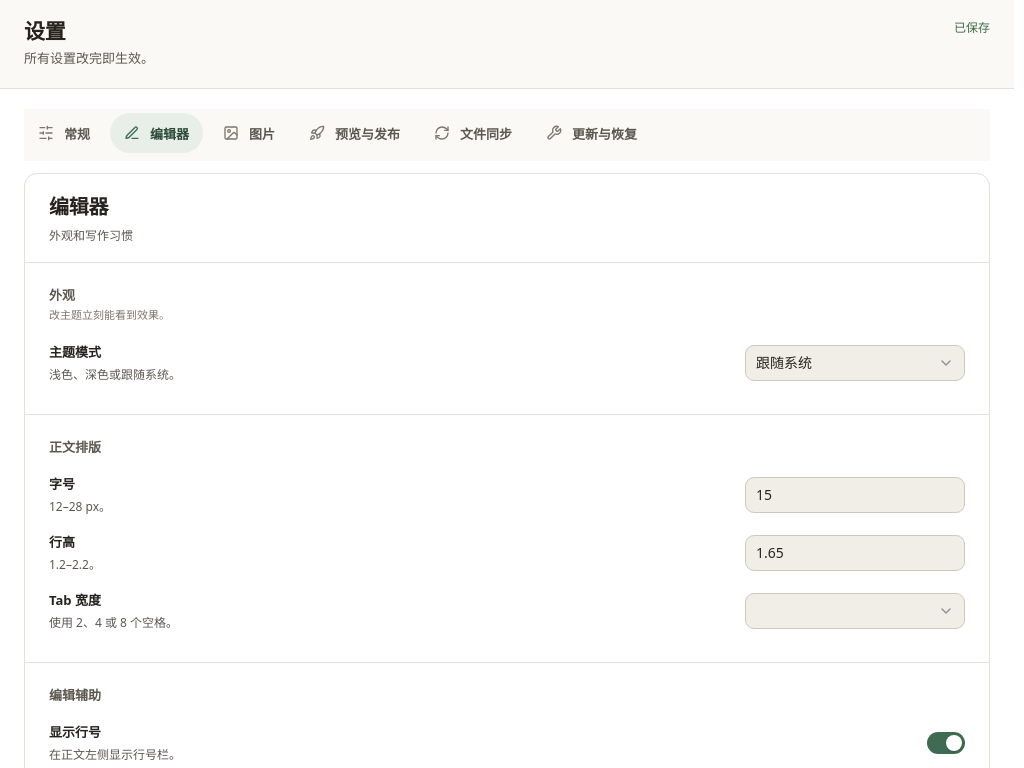
settings interaction recovery › rolls back an invalid value once the auto-save rejects it
Step 1. Replace the text in the number field labelled "字号" with "18" → (855, 494), box [745, 476, 965, 512]
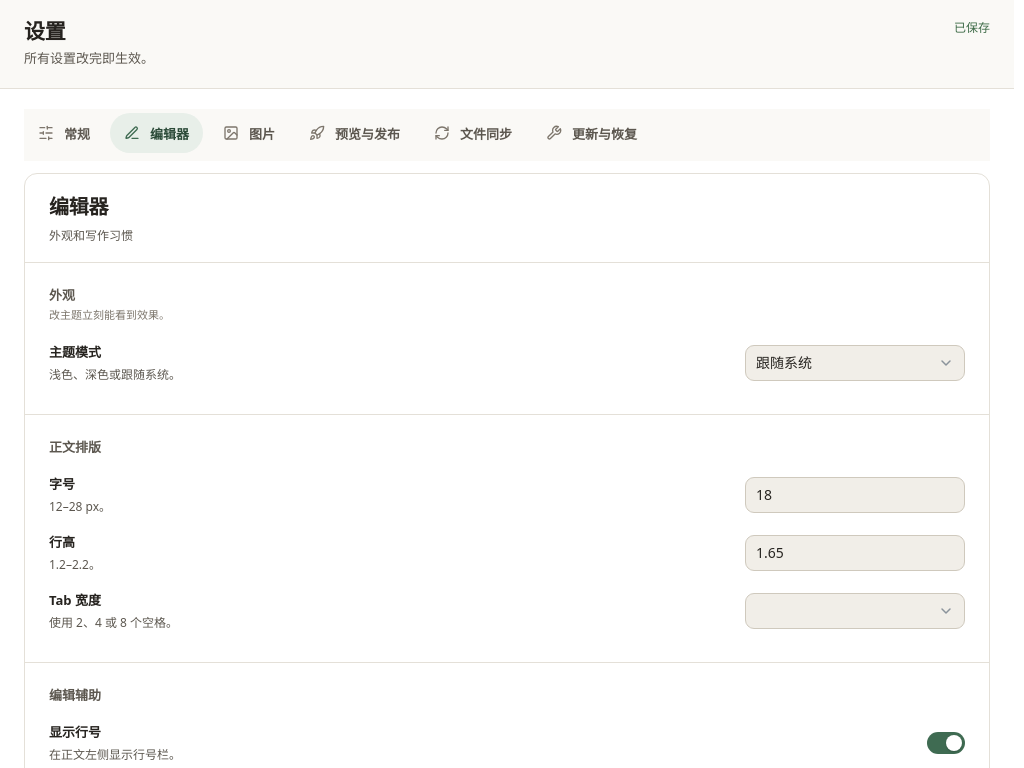
Step 2. Replace the text in the number field labelled "字号" with "40" → (855, 494), box [745, 476, 965, 512]
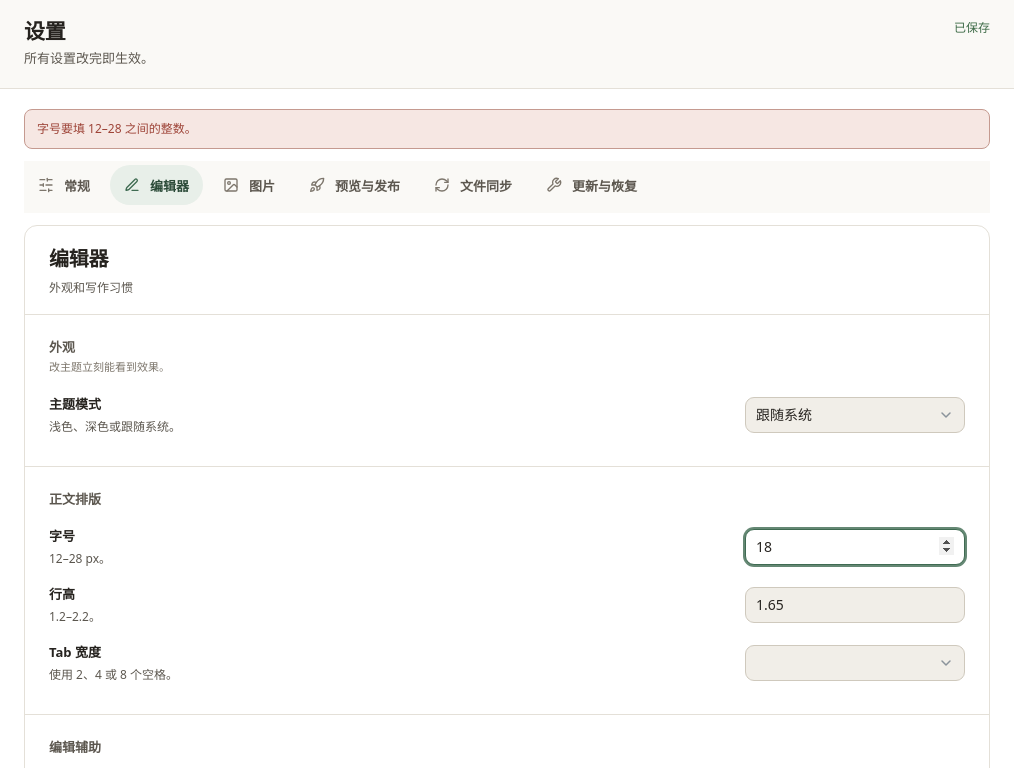
Result: the message shows "12–28" at [37, 120, 197, 137]
